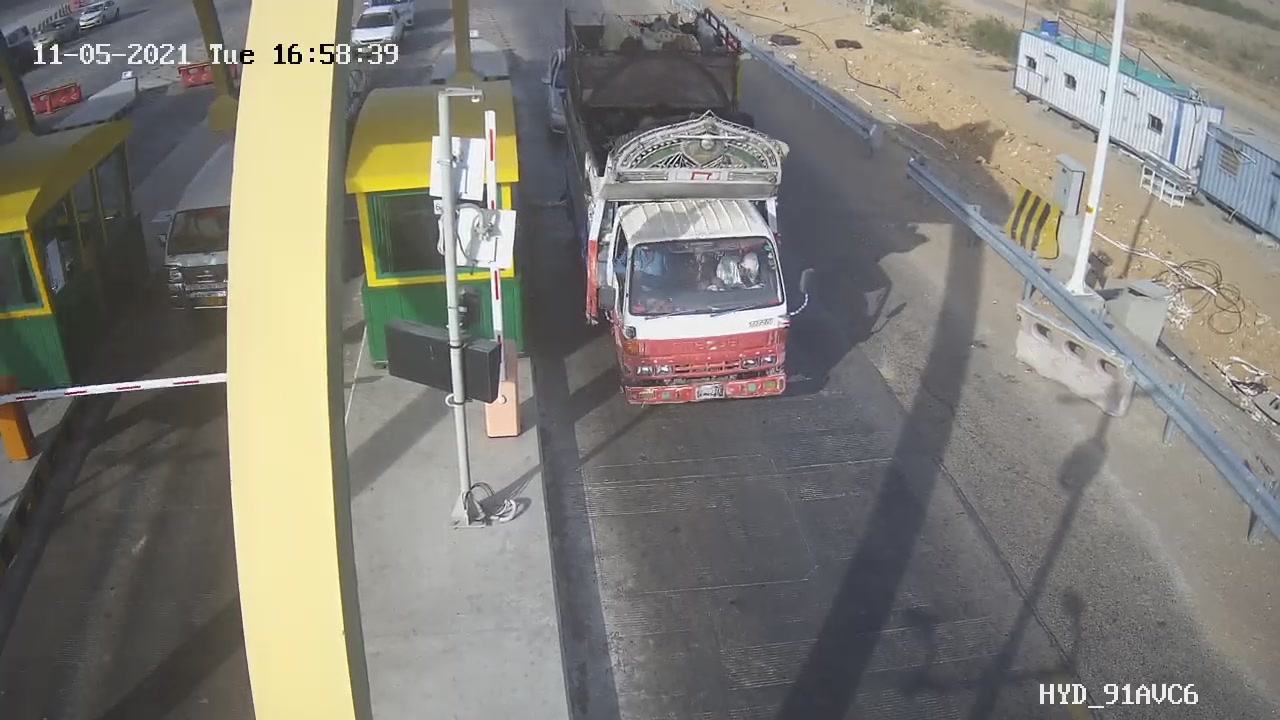F5: (537, 3, 833, 436)
